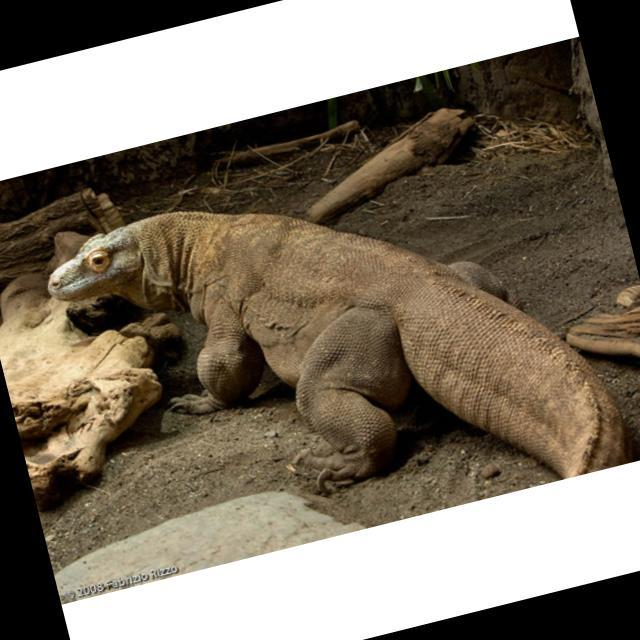KomodoDragon: (28, 108, 635, 587)
